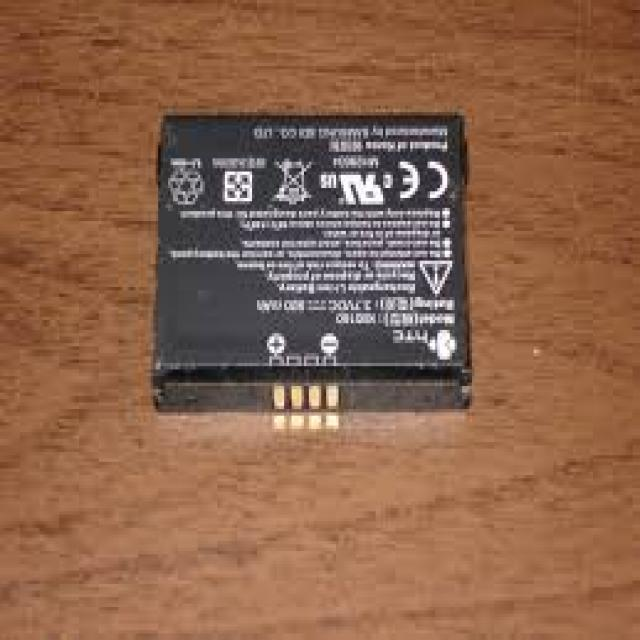non-organic waste: (151, 109, 476, 412)
